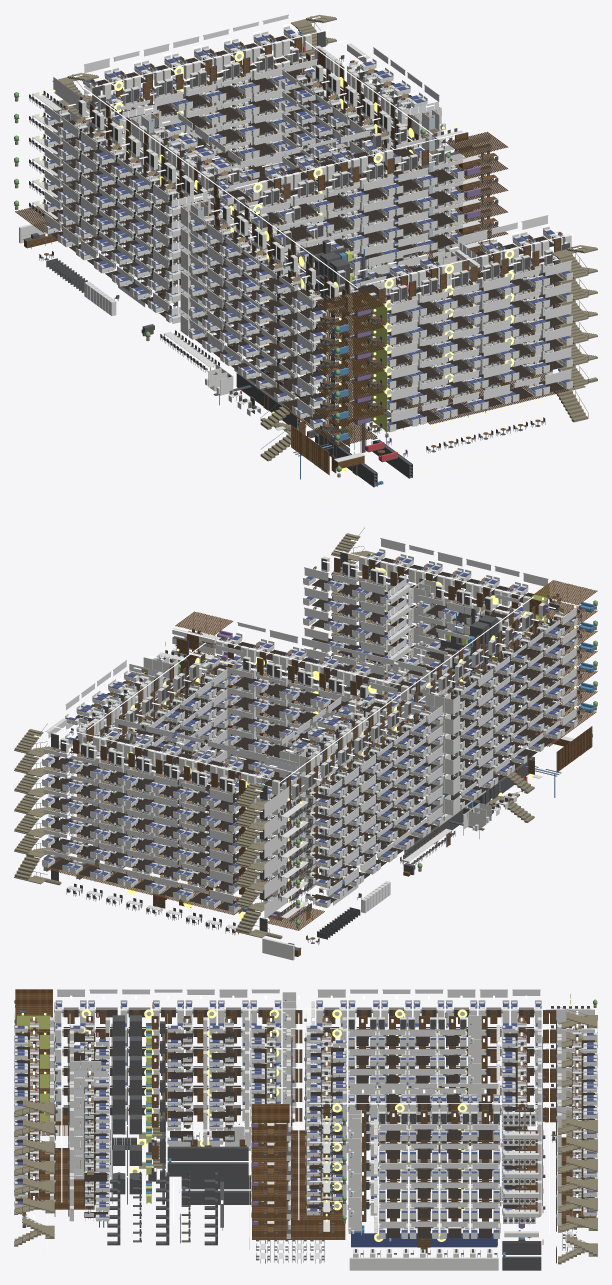
The model's file is blackwell_furniture.glb.
The picture shows the model from 3 angles, top to bottom: view 1: azimuth 30°, elevation 25°; view 2: azimuth 150°, elevation 25°; view 3: azimuth 270°, elevation 25°; orthographic projection. The views are drawn at different scales.
Visible parts, largest first — view 1: furniture_L7, furniture_L6, furniture_L5, furniture_L4, furniture_L3, furniture_L2, furniture_L1, furniture_B1; view 2: furniture_L7, furniture_L6, furniture_L5, furniture_L4, furniture_L3, furniture_L2, furniture_L1, furniture_B1; view 3: furniture_L7, furniture_L1, furniture_L6, furniture_L5, furniture_L4, furniture_L3, furniture_L2, furniture_B1.
Part boxes in pixels (x1=…): furniture_L7: x1=14, y1=14, x2=597, y2=336; furniture_L6: x1=14, y1=36, x2=597, y2=357; furniture_L5: x1=14, y1=58, x2=597, y2=379; furniture_L4: x1=14, y1=100, x2=597, y2=401; furniture_L3: x1=14, y1=122, x2=597, y2=422; furniture_L2: x1=14, y1=144, x2=597, y2=444; furniture_L1: x1=15, y1=168, x2=597, y2=477; furniture_B1: x1=213, y1=364, x2=515, y2=498; furniture_L7: x1=14, y1=527, x2=597, y2=827; furniture_L6: x1=14, y1=548, x2=597, y2=847; furniture_L5: x1=14, y1=581, x2=597, y2=867; furniture_L4: x1=14, y1=601, x2=597, y2=888; furniture_L3: x1=14, y1=622, x2=597, y2=908; furniture_L2: x1=14, y1=642, x2=597, y2=928; furniture_L1: x1=14, y1=662, x2=596, y2=960; furniture_B1: x1=375, y1=736, x2=580, y2=862; furniture_L7: x1=14, y1=989, x2=597, y2=1141; furniture_L1: x1=14, y1=1107, x2=597, y2=1270; furniture_L6: x1=14, y1=1009, x2=597, y2=1160; furniture_L5: x1=14, y1=1029, x2=597, y2=1180; furniture_L4: x1=14, y1=1048, x2=597, y2=1199; furniture_L3: x1=14, y1=1068, x2=597, y2=1219; furniture_L2: x1=14, y1=1087, x2=597, y2=1238; furniture_B1: x1=47, y1=1132, x2=251, y2=1251.
Size of the model in its own units: 45.85 by 28.75 by 83.83.
Materials: 23 (19 with a texture image).
